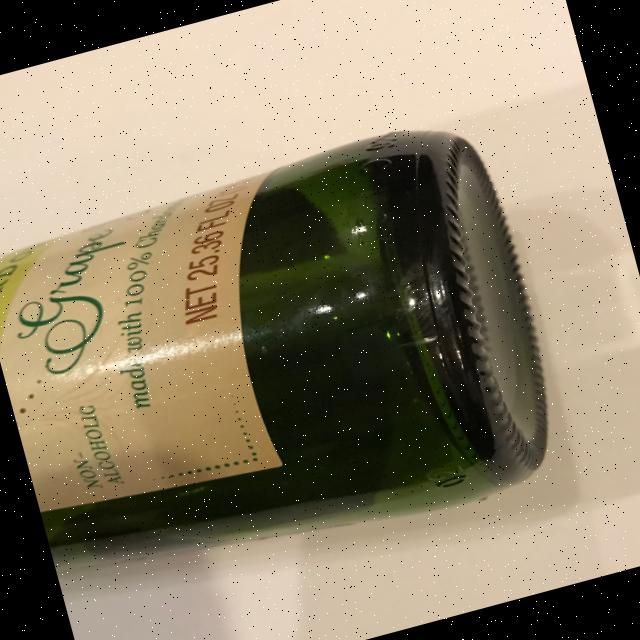glass: (0, 107, 578, 610)
